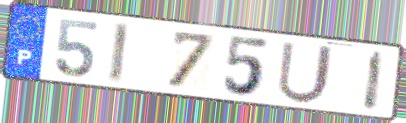5: (222, 36, 273, 99), (53, 16, 99, 80)
7: (166, 29, 216, 91)
I: (107, 20, 133, 86), (361, 48, 387, 114)
U: (274, 39, 337, 106)
